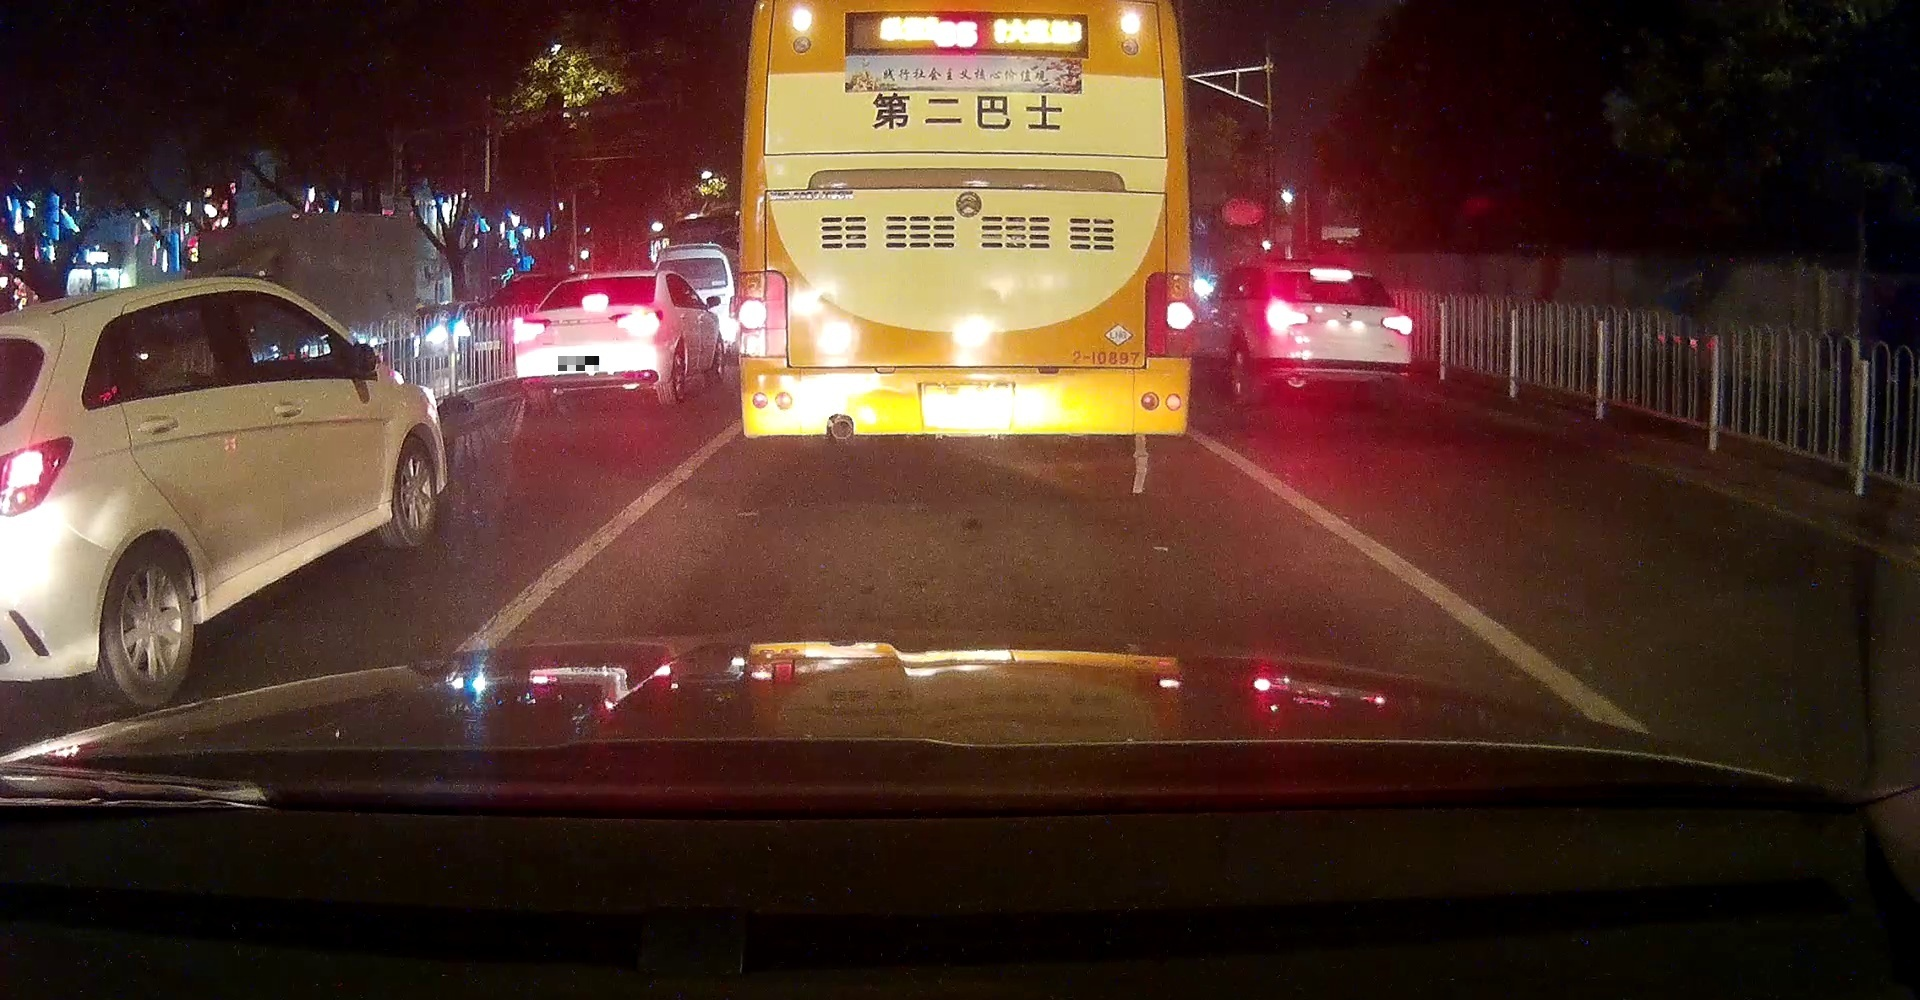L_light: (737, 270, 785, 357), (1266, 305, 1310, 331), (512, 317, 552, 344)
R_light: (1143, 272, 1194, 358), (608, 308, 663, 336), (1382, 315, 1413, 335)
T_light: (919, 0, 997, 11), (1308, 269, 1352, 282), (582, 294, 610, 307)
night-brake: (1262, 263, 1413, 407), (512, 270, 665, 409)
night-no: (737, 0, 1196, 448)
plate_1: (557, 357, 599, 371)
